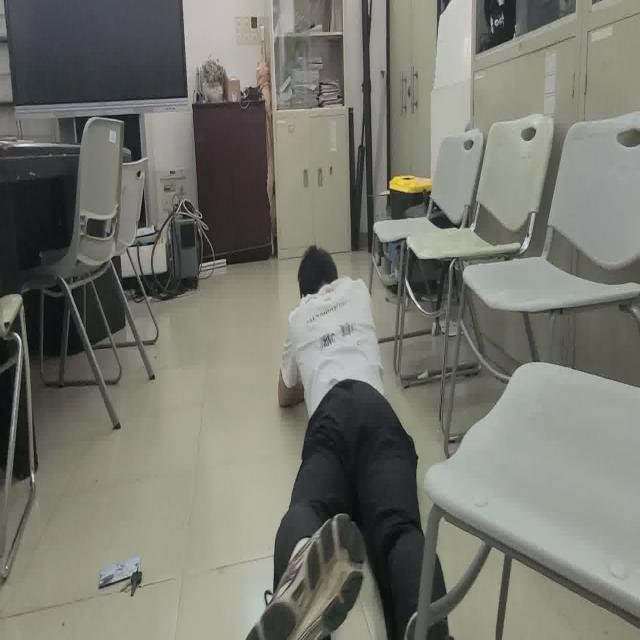Fall-Detected: (236, 243, 450, 640)
